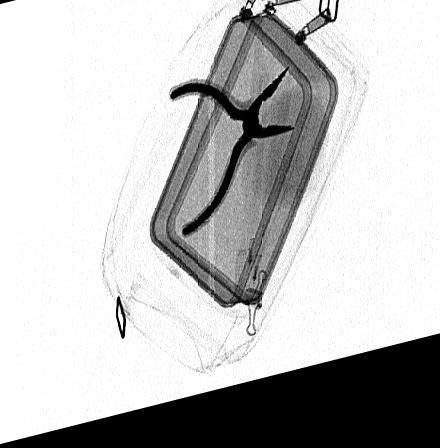Pliers: (165, 77, 296, 249)
